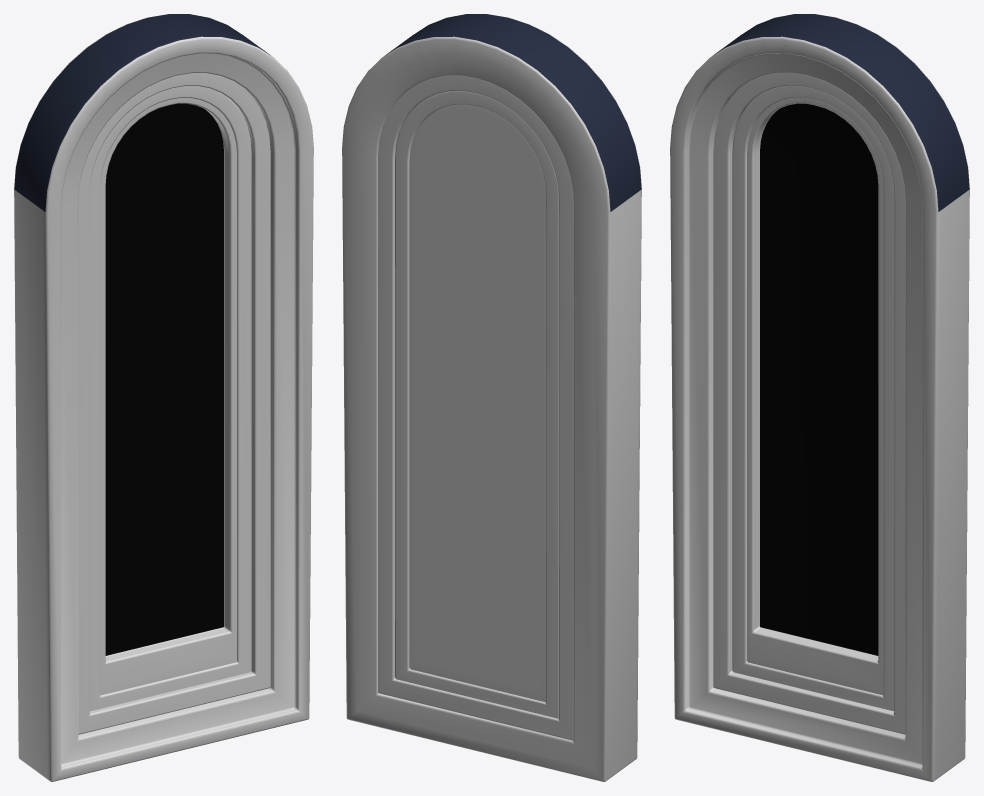
The model's file is FM_White_H_Window_01_001.fbx.
The picture shows the model from 3 angles, left to right: view 1: azimuth 30°, elevation 25°; view 2: azimuth 150°, elevation 25°; view 3: azimuth 330°, elevation 25°; orthographic projection.
Visible parts, largest first — view 1: FM_White_H_Window_01_001; view 2: FM_White_H_Window_01_001; view 3: FM_White_H_Window_01_001.
Boxes of the visible parts, bbox=[...] form: FM_White_H_Window_01_001: bbox=[14, 14, 313, 781]; FM_White_H_Window_01_001: bbox=[342, 14, 641, 781]; FM_White_H_Window_01_001: bbox=[670, 14, 969, 781].
Bounding box in the file's own units: 2.25 × 5.7 × 0.4844.
